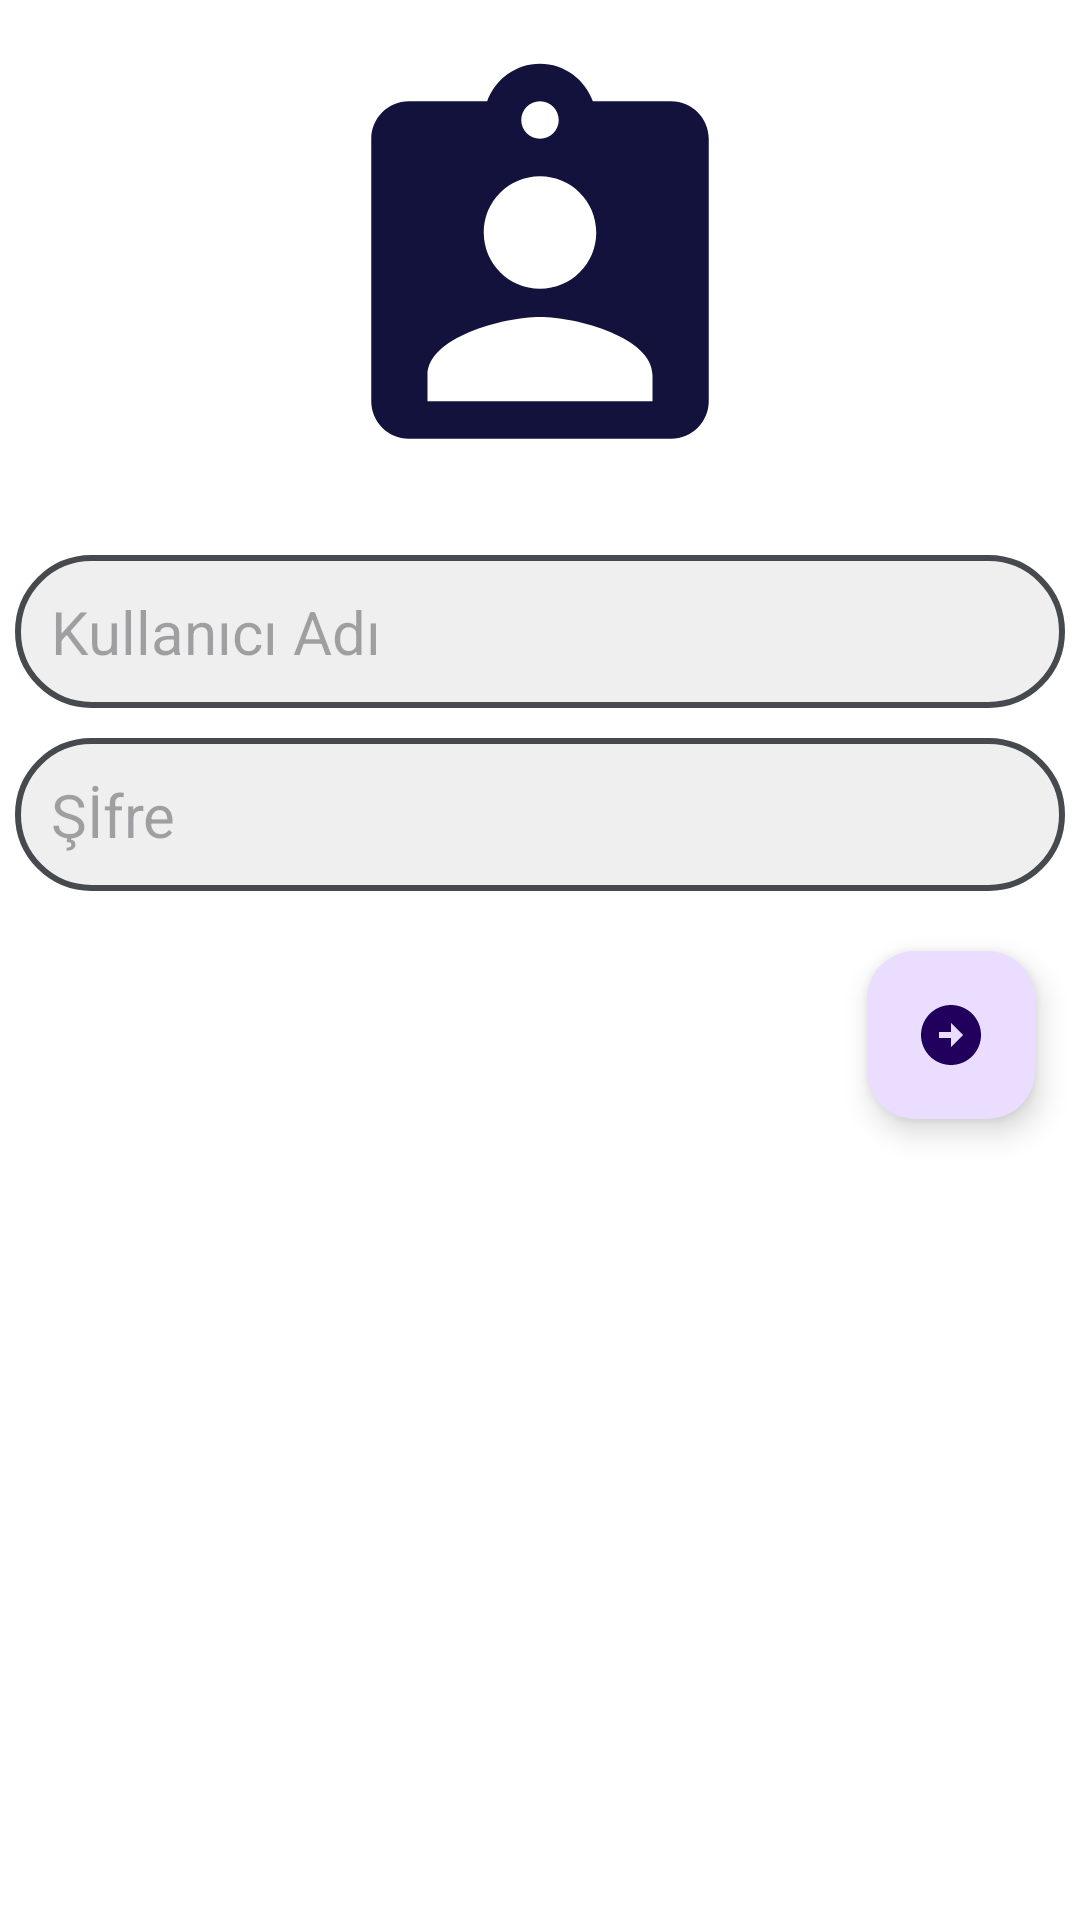

Icons on this 1080 × 1920 Android screen, each with its box as (x1=x1, y1=y1, x2=x2, y2=y2):
enter: (x1=867, y1=951, x2=1035, y2=1119)
